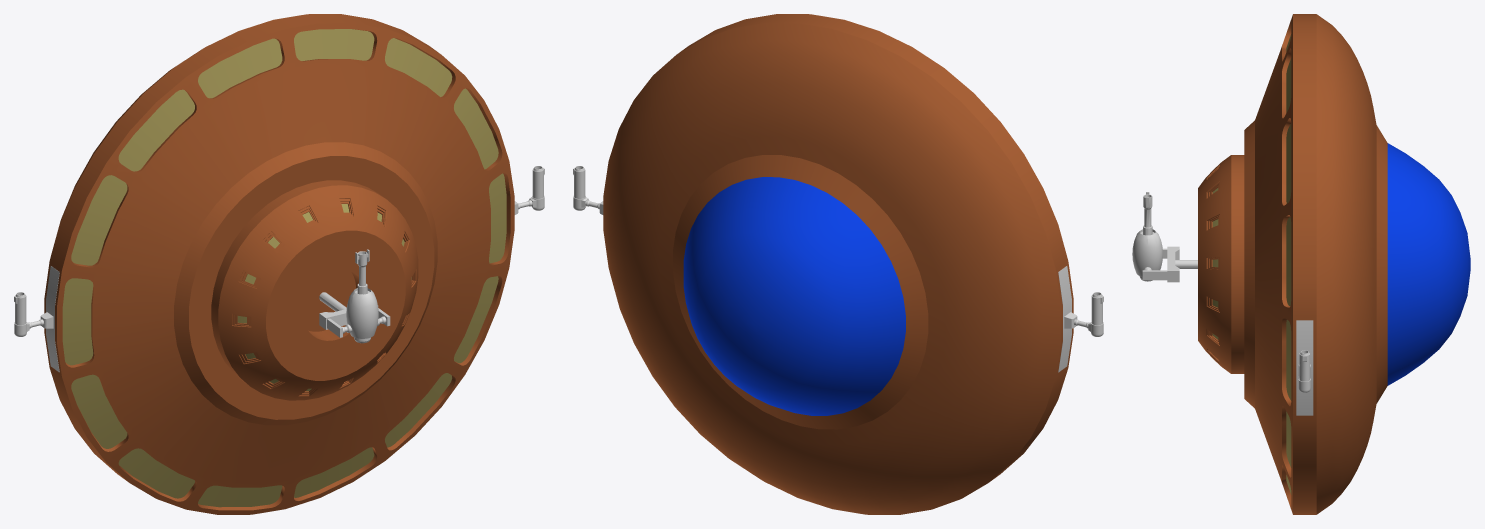
The model's file is UFO.fbx.
3 renders of one model, left to right at view 1: azimuth 30°, elevation 25°; view 2: azimuth 150°, elevation 25°; view 3: azimuth 270°, elevation 25°, orthographic. The views are drawn at different scales.
Visible parts, largest first — view 1: Ship, BottomGun, RightGun_Holder, BottomGun_Holder, RightGun, LeftGun; view 2: Ship, RightGun_Holder, RightGun, LeftGun; view 3: Ship, BottomGun, LeftGun_Holder, BottomGun_Holder, LeftGun.
Boxes of the visible parts, x1,y1,x2,y2 form: Ship: (44,14,514,514); BottomGun: (342,249,386,343); RightGun_Holder: (40,266,59,372); BottomGun_Holder: (319,292,390,337); RightGun: (14,292,43,336); LeftGun: (518,166,544,210); Ship: (603,14,1073,514); RightGun_Holder: (1058,266,1077,372); RightGun: (1074,292,1103,336); LeftGun: (573,166,599,210); Ship: (1198,14,1470,514); BottomGun: (1132,192,1162,281); LeftGun_Holder: (1296,320,1313,415); BottomGun_Holder: (1142,246,1197,282); LeftGun: (1298,350,1310,392).
Bounding box in the file's own units: 12.18 × 10.57 × 7.13.
